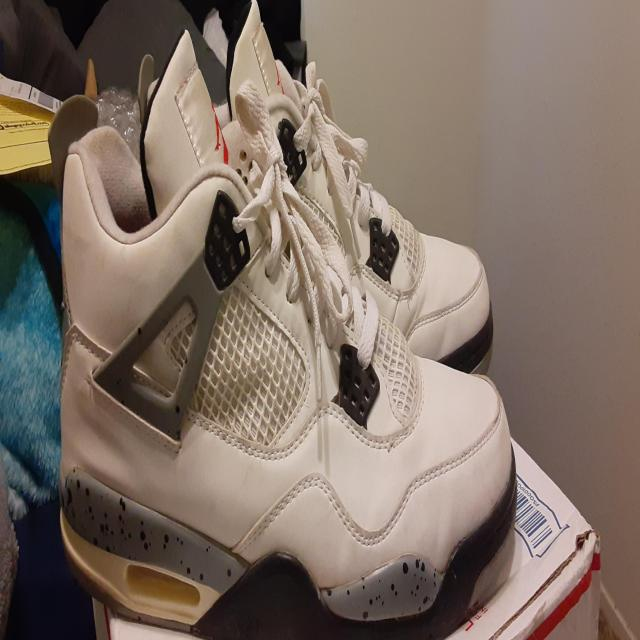shoe: (52, 8, 516, 639), (195, 1, 506, 388)
